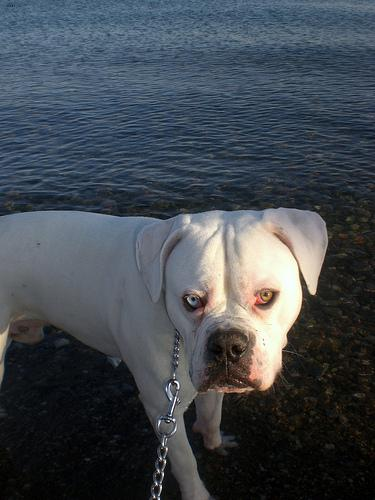dog-american_bulldog: (133, 206, 327, 392)
